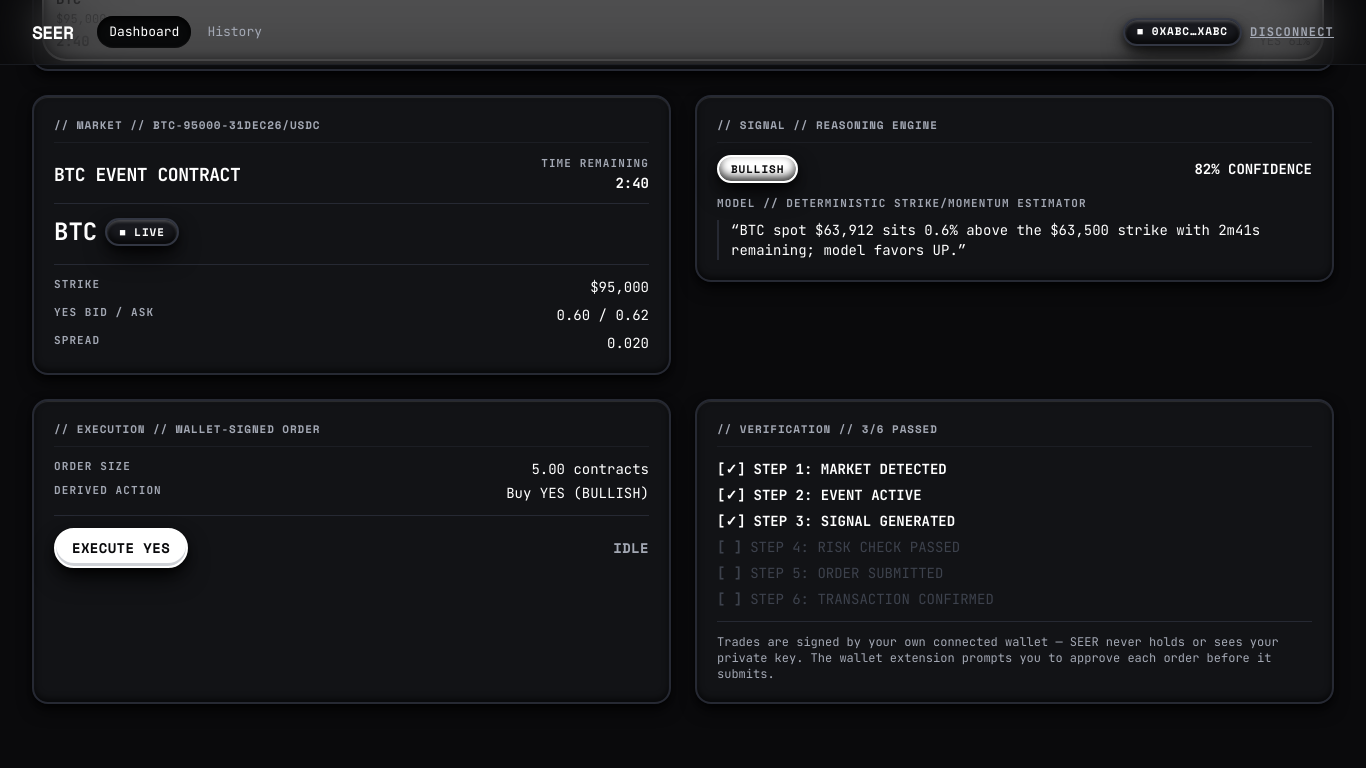
it: DashboardPage › renders the market, its signal, and lets a connected user execute a trade
(page scrolled)
Expected: the text "BULLISH" is shown, [717,154,798,183]
What coordinates should you click on to do the following:
click the button "Execute YES"
I would click on:
 (121, 548)
Its box is [54,528,188,568].
(page scrolled)
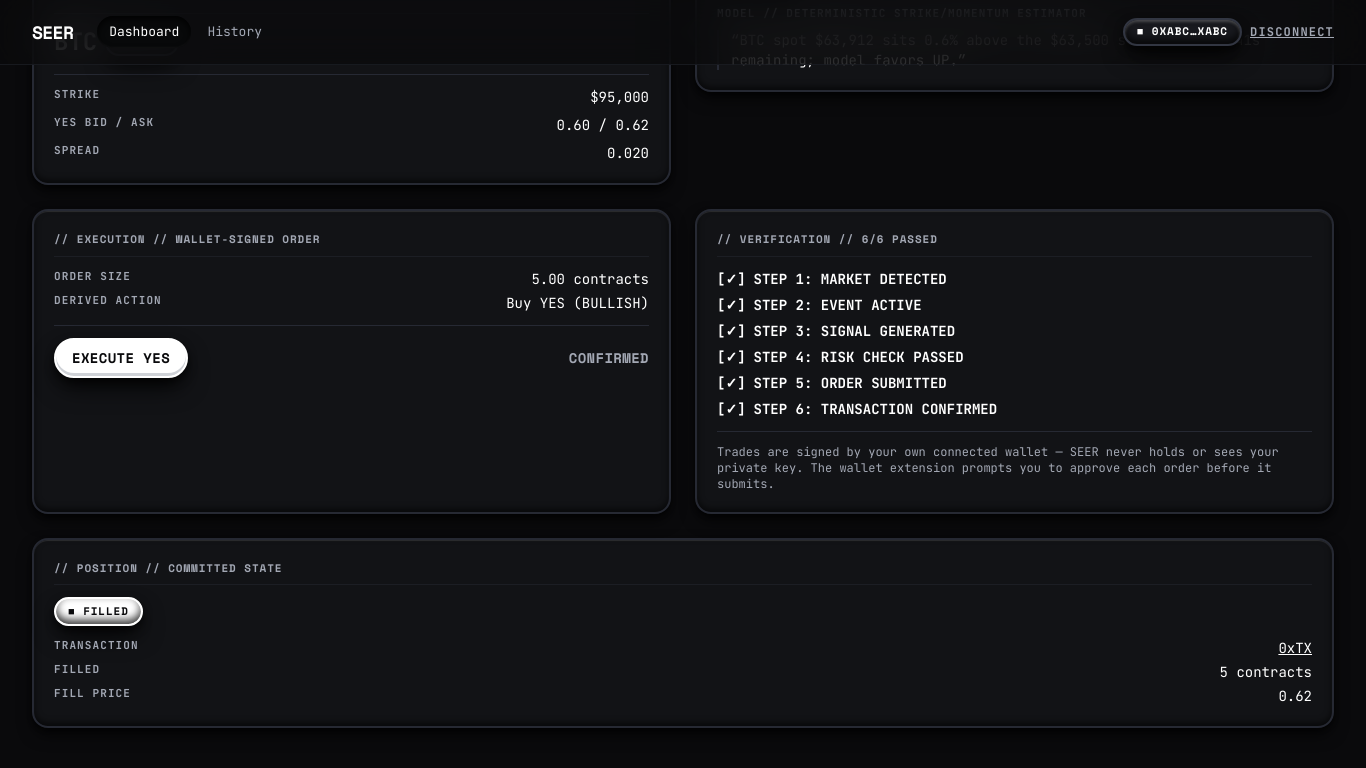
Expected: the link "0xTX" is shown, [1278,638,1312,656]
